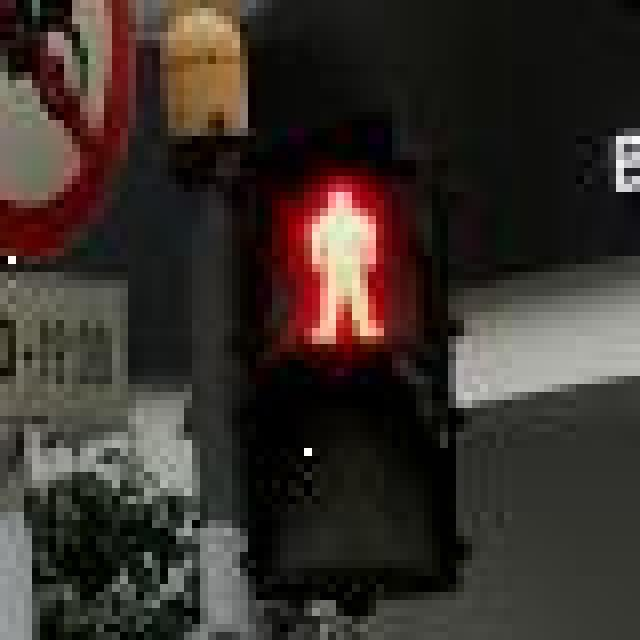redlight: (232, 104, 480, 608)
